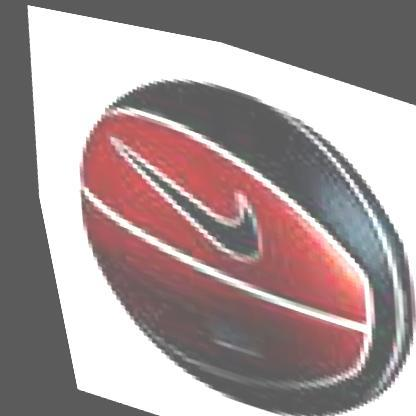basketball: (17, 24, 416, 416)
